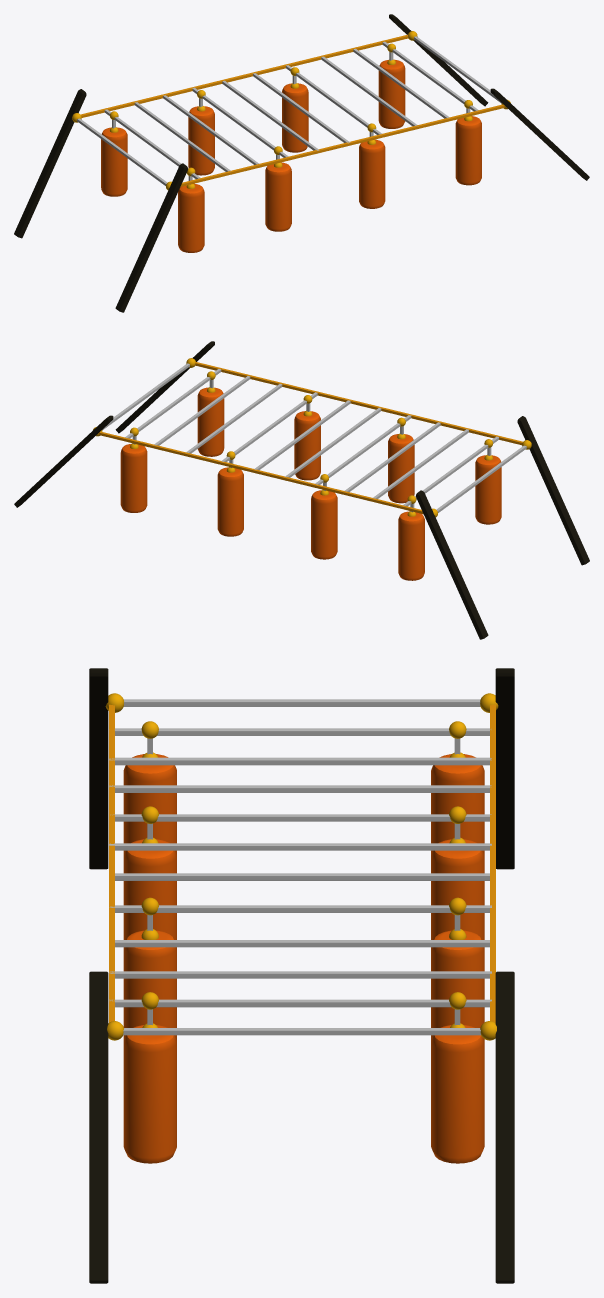
The picture shows the model from 3 angles, top to bottom: view 1: azimuth 30°, elevation 25°; view 2: azimuth 150°, elevation 25°; view 3: azimuth 270°, elevation 25°; orthographic projection. The views are drawn at different scales.
Parts seen in each view (by area): view 1: polySurface724, pCylinder7, pCylinder9, pCylinder5, pCylinder2, pCylinder3, pCylinder8, pCylinder6, pCylinder4; view 2: polySurface724, pCylinder8, pCylinder3, pCylinder6, pCylinder4, pCylinder2, pCylinder9, pCylinder7, pCylinder5; view 3: polySurface724, pCylinder8, pCylinder9, pCylinder7, pCylinder6, pCylinder4, pCylinder5, pCylinder3, pCylinder2.
Boxes of the visible parts, left/top/right/bottom form: polySurface724: left=14, top=14, right=589, bottom=312; pCylinder7: left=359, top=123, right=385, bottom=208; pCylinder9: left=455, top=100, right=481, bottom=185; pCylinder5: left=265, top=146, right=291, bottom=231; pCylinder2: left=178, top=167, right=204, bottom=252; pCylinder3: left=101, top=111, right=127, bottom=196; pCylinder8: left=378, top=43, right=405, bottom=128; pCylinder6: left=282, top=67, right=308, bottom=152; pCylinder4: left=188, top=90, right=214, bottom=175; polySurface724: left=14, top=341, right=589, bottom=639; pCylinder8: left=120, top=427, right=147, bottom=512; pCylinder3: left=398, top=495, right=424, bottom=580; pCylinder6: left=217, top=451, right=243, bottom=536; pCylinder4: left=311, top=474, right=337, bottom=559; pCylinder2: left=475, top=439, right=501, bottom=524; pCylinder9: left=197, top=371, right=224, bottom=456; pCylinder7: left=294, top=395, right=320, bottom=480; pCylinder5: left=388, top=417, right=414, bottom=503; polySurface724: left=89, top=668, right=514, bottom=1283; pCylinder8: left=431, top=992, right=484, bottom=1163; pCylinder9: left=123, top=992, right=176, bottom=1163; pCylinder7: left=123, top=897, right=176, bottom=1040; pCylinder6: left=431, top=897, right=484, bottom=1040; pCylinder4: left=431, top=806, right=484, bottom=939; pCylinder5: left=123, top=806, right=176, bottom=939; pCylinder3: left=431, top=721, right=484, bottom=854; pCylinder2: left=123, top=721, right=176, bottom=854.
Bounding box in the file's own units: 20.2 × 5.38 × 7.91.
